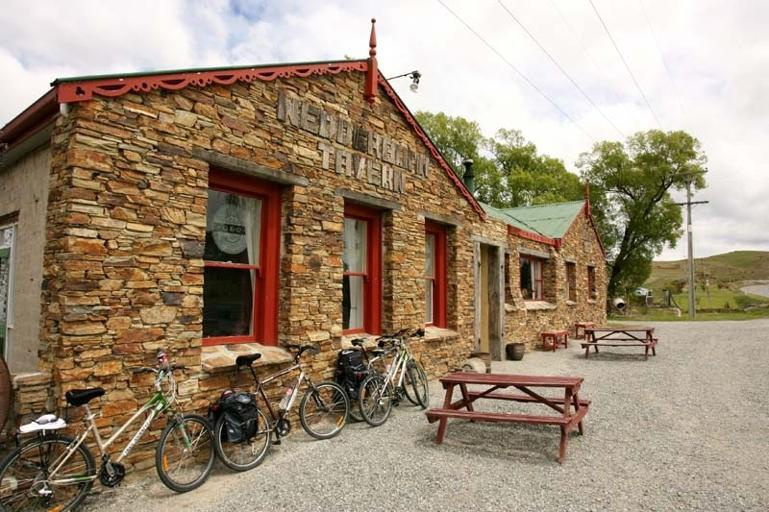non-vehicle: (1, 364, 215, 512), (214, 341, 351, 471), (341, 327, 425, 422), (357, 328, 429, 426)
